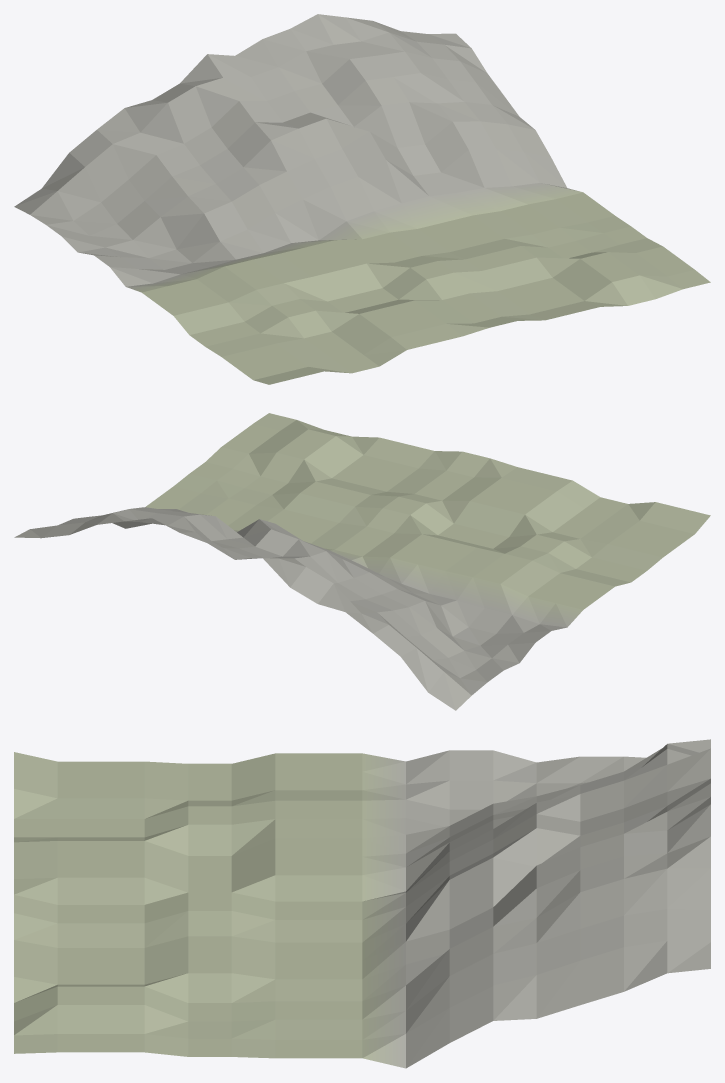
3 views of the same model, one above another, from view 1: azimuth 30°, elevation 25°; view 2: azimuth 150°, elevation 25°; view 3: azimuth 270°, elevation 25° (orthographic). The views are drawn at different scales.
Size of the model in its own units: 32 by 8.73 by 32.
